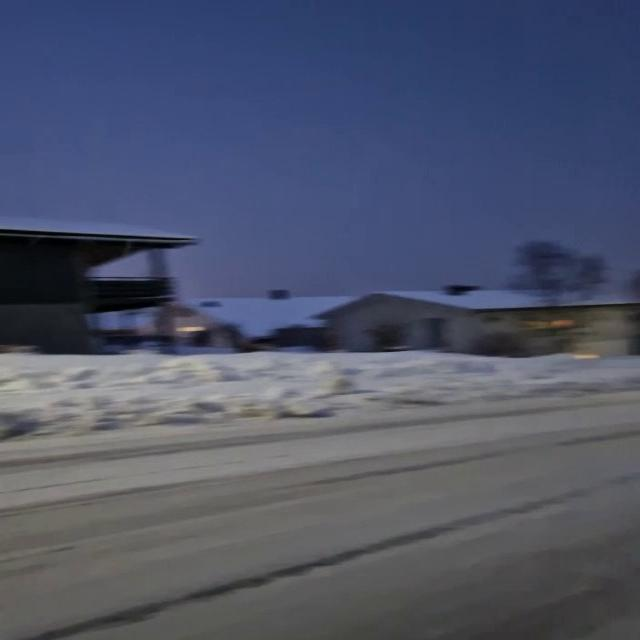path: (3, 393, 638, 640)
